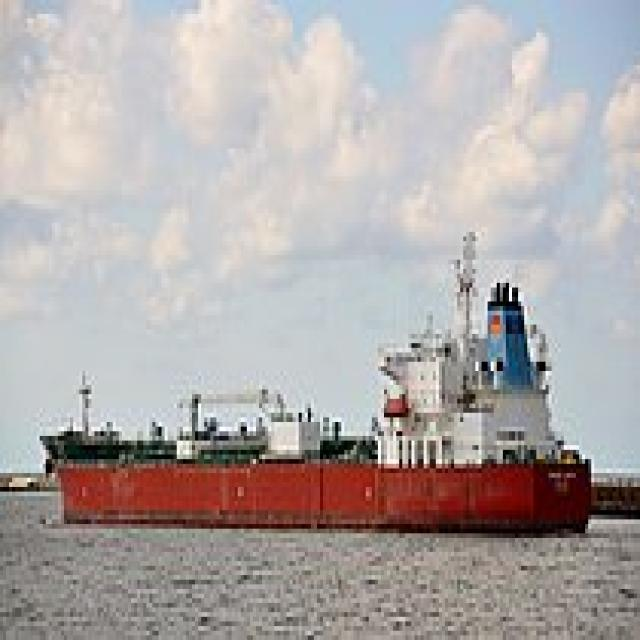Tanker: (37, 269, 591, 533)
